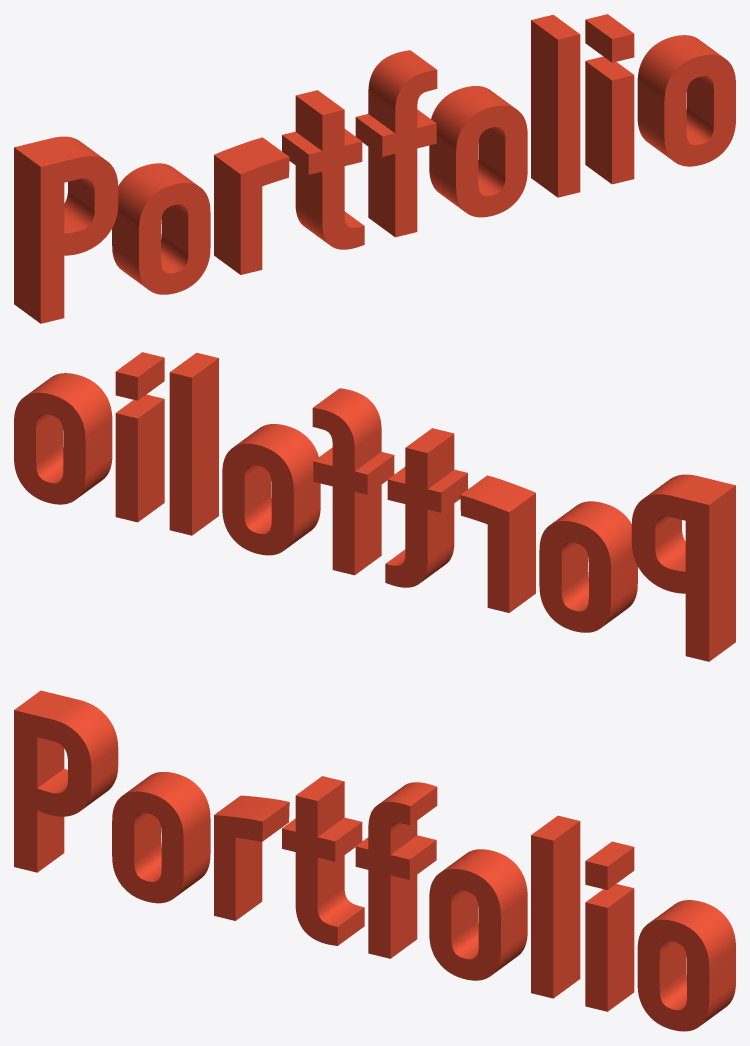
The model's file is portfolio.glb.
3 views of the same model, one above another, from view 1: azimuth 30°, elevation 25°; view 2: azimuth 150°, elevation 25°; view 3: azimuth 330°, elevation 25° (orthographic).
Visible parts, largest first — view 1: Object_2; view 2: Object_2; view 3: Object_2.
Part boxes in pixels (x1,y1,x2,y2): Object_2: (14,14,735,323); Object_2: (14,352,735,661); Object_2: (14,690,735,1031).
Size of the model in its own units: 4.97 by 1.09 by 0.3319.
